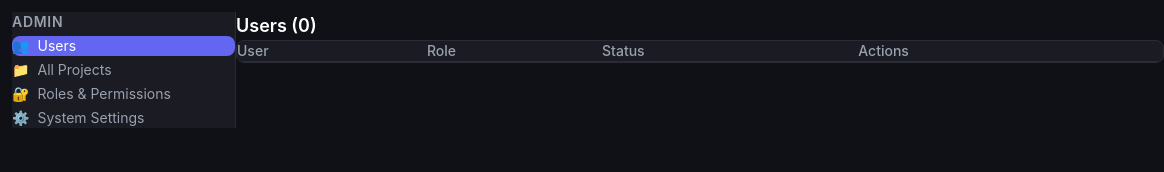
Test case: AdminPage › renders all roles in the roles list
Click the button "🔐 Roles & Permissions" at x=124, y=94, box top-left (12, 84), bottom-right (235, 104)
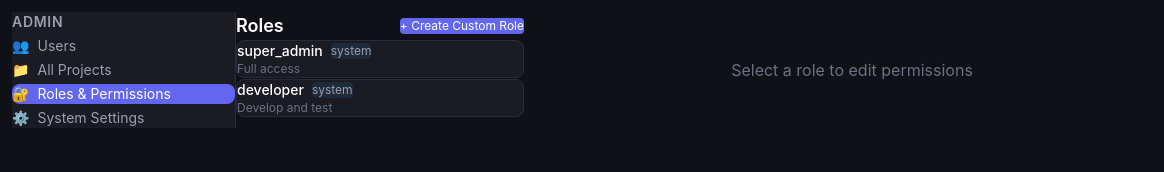
Check: the text "super_admin" is shown, box top-left (237, 41), bottom-right (323, 61)
Check: the text "Full access" is shown, box top-left (237, 61), bottom-right (300, 76)
Check: the text "developer" is shown, box top-left (237, 80), bottom-right (304, 100)
